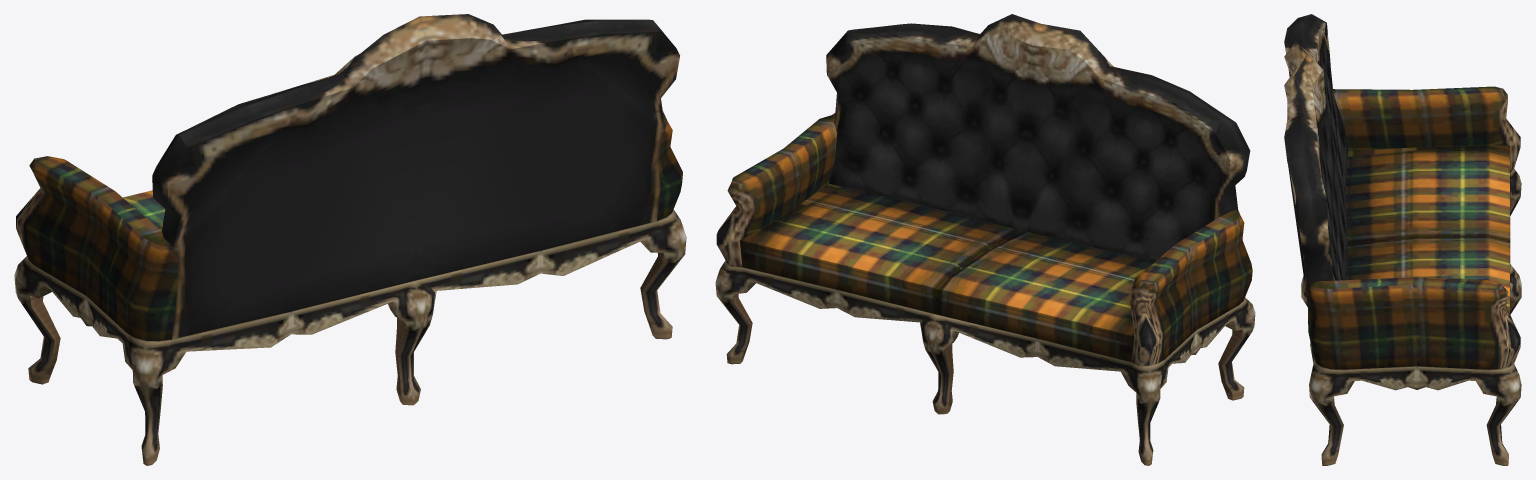
Rendered from furni_0200311_03.FBX.
3 renders of one model, left to right at view 1: azimuth 30°, elevation 25°; view 2: azimuth 150°, elevation 25°; view 3: azimuth 270°, elevation 25°, orthographic. The views are drawn at different scales.
Parts seen in each view (by area): view 1: furni_0200311_03; view 2: furni_0200311_03; view 3: furni_0200311_03.
Part boxes in pixels (x1,y1,x2,y2): furni_0200311_03: [14, 14, 686, 465]; furni_0200311_03: [715, 14, 1255, 465]; furni_0200311_03: [1284, 14, 1521, 465].
Size of the model in its own units: 158 by 108 by 74.98.
